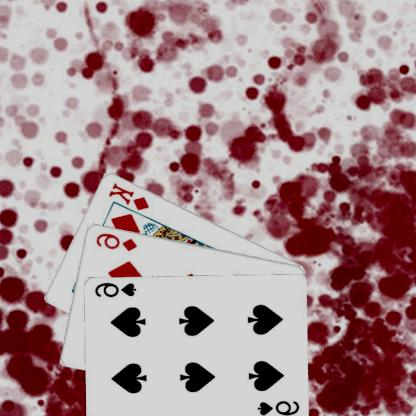6D: (94, 230, 140, 252)
6S: (256, 397, 302, 416), (94, 279, 139, 298)
KD: (107, 180, 153, 212)
